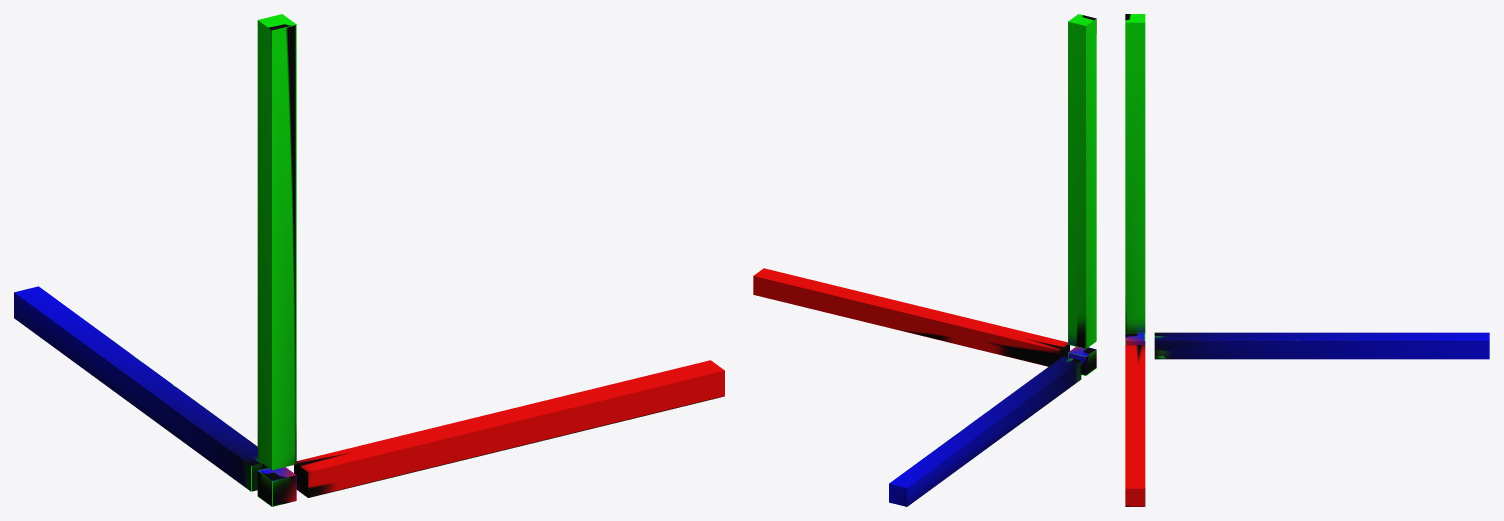
Rendered from axes.gltf.
3 views of the same model, side by side, from view 1: azimuth 30°, elevation 25°; view 2: azimuth 150°, elevation 25°; view 3: azimuth 270°, elevation 25° (orthographic). The views are drawn at different scales.
Parts seen in each view (by area): view 1: Cube; view 2: Cube; view 3: Cube.
Part boxes in pixels (bbox=[...]): Cube: bbox=[14, 14, 724, 506]; Cube: bbox=[753, 14, 1096, 506]; Cube: bbox=[1125, 14, 1489, 506].
Bounding box in the file's own units: 2.05 × 2.06 × 2.02.
1 material, 1 textured.
